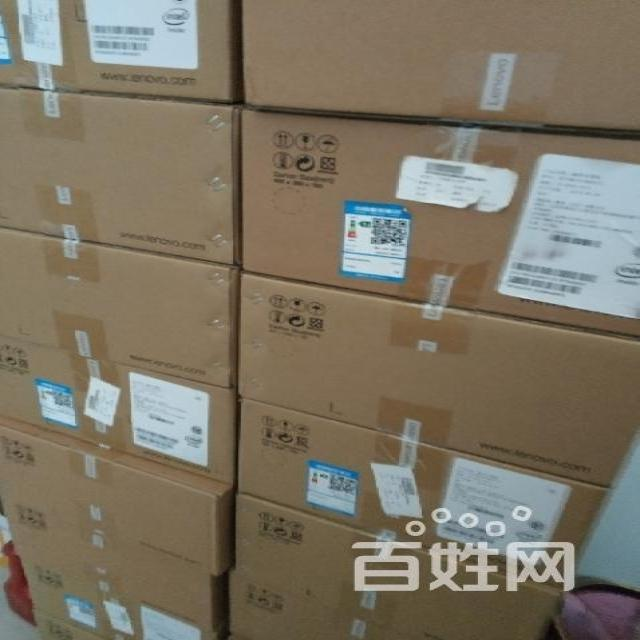box: (237, 104, 639, 335), (235, 271, 639, 488), (240, 400, 612, 586), (238, 2, 639, 135), (235, 493, 562, 639), (0, 88, 239, 269), (0, 226, 232, 388), (0, 417, 235, 575), (0, 333, 234, 485), (0, 497, 234, 630), (0, 2, 239, 106), (18, 558, 220, 639), (232, 569, 421, 639), (34, 613, 94, 639)
